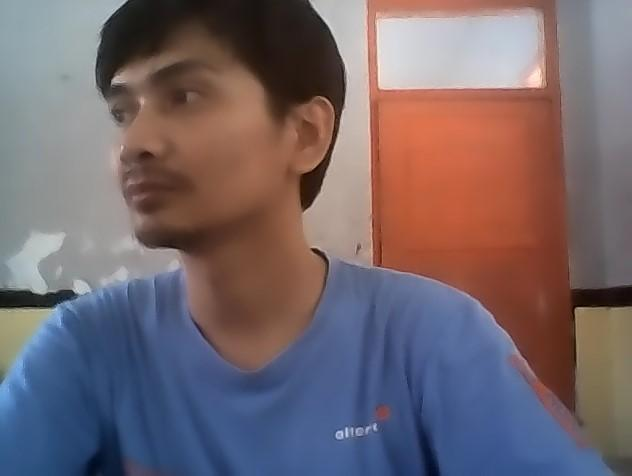cheating: (4, 3, 632, 476)
